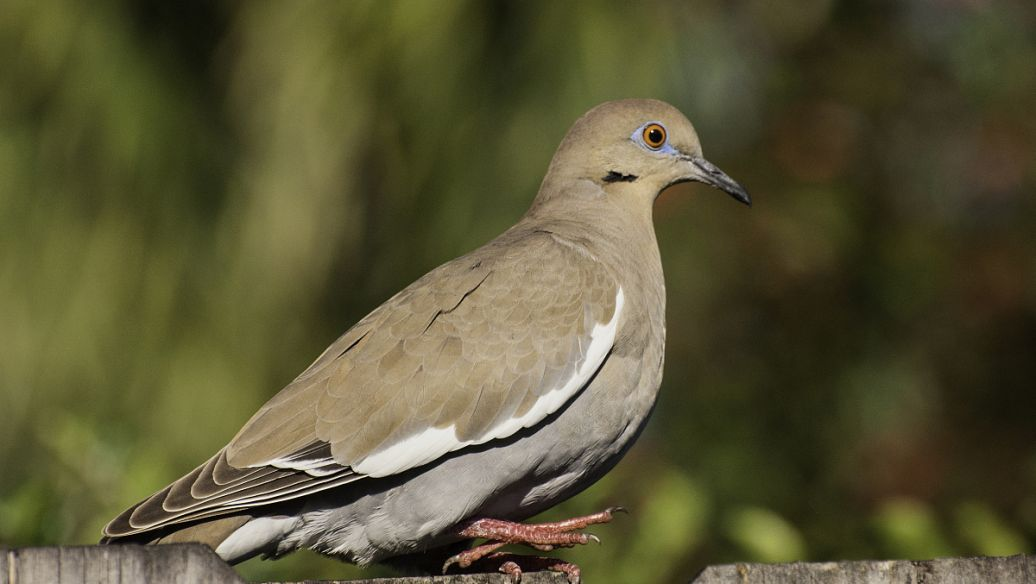bird: (23, 30, 801, 584)
